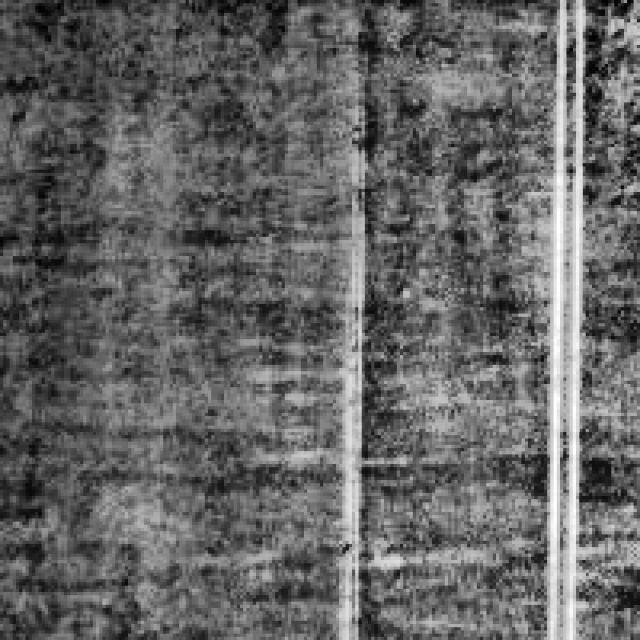Inclusion: (537, 0, 585, 630), (330, 124, 364, 630)
